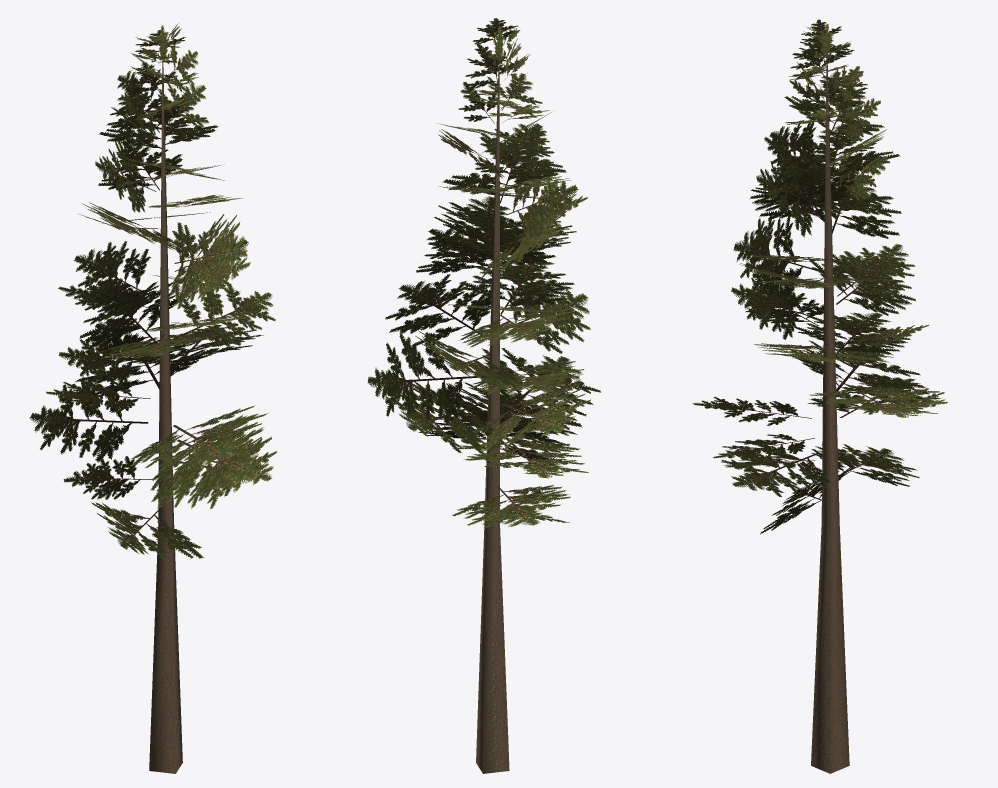
Rendered from fir_giant_a_lod5.gltf.
3 views of the same model, side by side, from view 1: azimuth 30°, elevation 25°; view 2: azimuth 150°, elevation 25°; view 3: azimuth 270°, elevation 25° (orthographic).
Visible parts, largest first — view 1: fir_giant_a_LOD5; view 2: fir_giant_a_LOD5; view 3: fir_giant_a_LOD5.
Part boxes in pixels (x1,y1,x2,y2): fir_giant_a_LOD5: (29, 23, 277, 773); fir_giant_a_LOD5: (367, 18, 600, 773); fir_giant_a_LOD5: (692, 19, 947, 773).
Size of the model in its own units: 15.85 by 40.59 by 15.05.
Materials: 2 (2 with a texture image).
